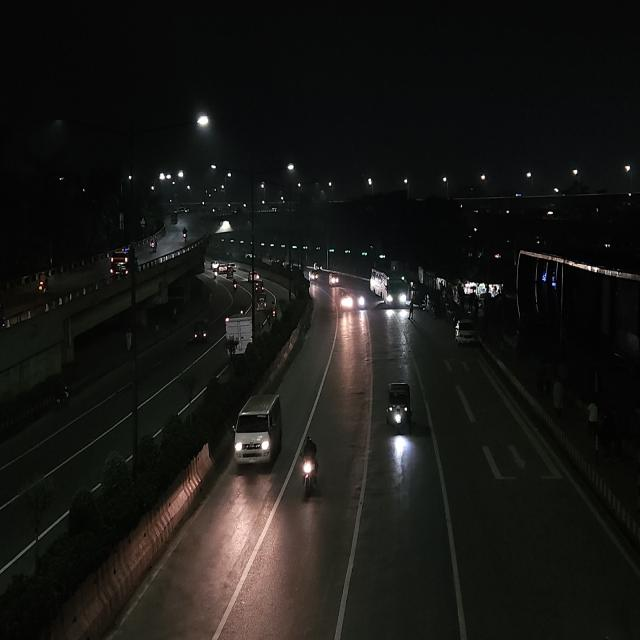bus: (369, 262, 409, 309)
car: (230, 386, 286, 477), (451, 315, 479, 349), (110, 250, 130, 278), (249, 268, 263, 284), (218, 261, 227, 275), (227, 261, 238, 270)
cng: (382, 379, 416, 441), (190, 316, 210, 346), (338, 288, 353, 312), (306, 265, 320, 285), (255, 293, 268, 312), (328, 271, 340, 288), (226, 266, 234, 279)
motorcycle: (297, 434, 323, 500), (269, 301, 279, 324), (356, 288, 366, 310), (148, 236, 158, 254), (181, 225, 189, 242), (231, 276, 239, 292)
pedestrian: (423, 292, 431, 314), (407, 299, 414, 321)
truck: (222, 305, 256, 360)
